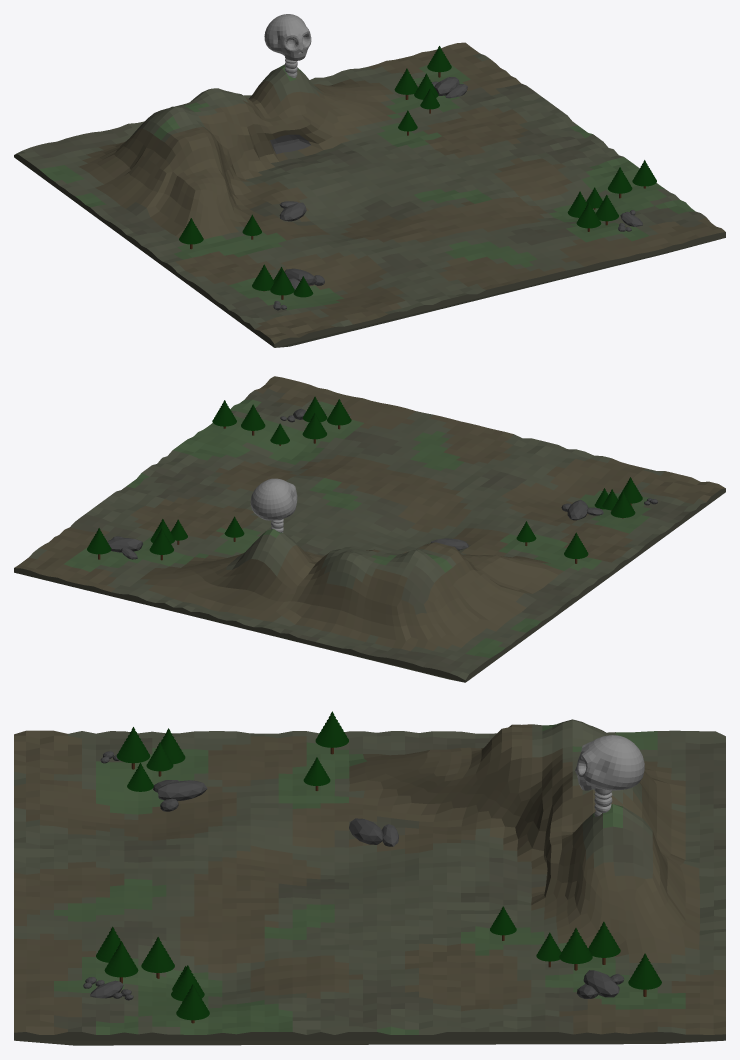
File: Land_1_01.glb
3 renders of one model, top to bottom at view 1: azimuth 30°, elevation 25°; view 2: azimuth 150°, elevation 25°; view 3: azimuth 270°, elevation 25°, orthographic. The views are drawn at different scales.
Visible parts, largest first — view 1: Terrain, Crane; view 2: Terrain, Crane; view 3: Terrain, Crane, Icosphere.002, Cylinder.003, Cylinder.006, Cylinder.001, Cylinder.009, Cylinder.013, Cylinder.012, Cylinder.002, Cylinder.015, Icosphere (+2 smaller).
Part boxes in pixels (x1,y1,x2,y2): Terrain: [14, 42, 725, 347]; Crane: [264, 14, 311, 77]; Terrain: [14, 376, 725, 682]; Crane: [250, 478, 297, 532]; Terrain: [14, 719, 725, 1045]; Crane: [575, 735, 644, 816]; Icosphere.002: [158, 780, 207, 800]; Cylinder.003: [628, 953, 661, 996]; Cylinder.006: [315, 711, 348, 754]; Cylinder.001: [559, 928, 592, 970]; Cylinder.009: [116, 727, 150, 769]; Cylinder.013: [104, 941, 138, 983]; Cylinder.012: [141, 937, 174, 978]; Cylinder.002: [588, 921, 620, 964]; Cylinder.015: [176, 984, 209, 1023]; Icosphere: [349, 818, 383, 844].
Bounding box in the file's own units: 19.9 × 5.79 × 19.89.
